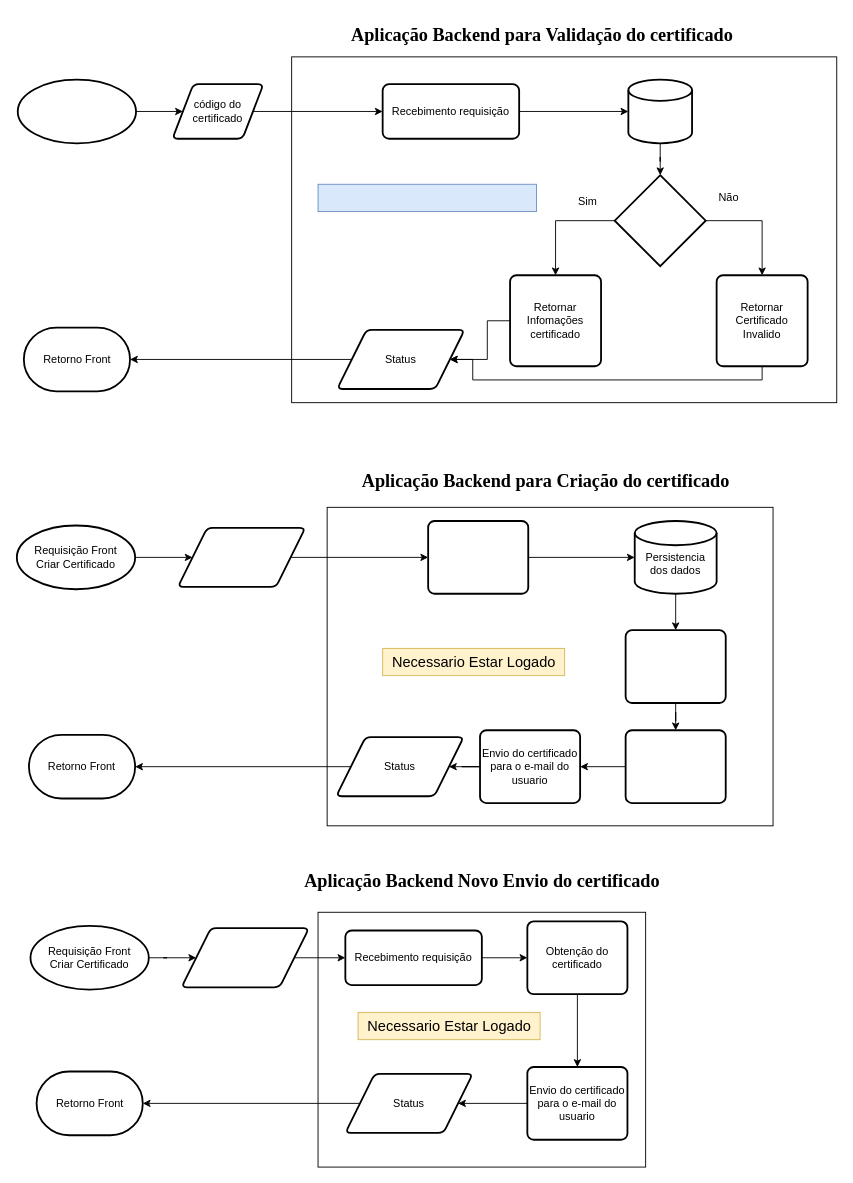
The diagram is 853 pixels wide and 1183 high, and some of its shapes have lost their labels. Here are the shapes that lost their labels. From the top down, the centre of each, then its label:
point (76, 111): Requisição Front Validar Certificado
point (660, 111): Consulta Código
point (426, 197): Não Necessario Estar Logado
point (659, 220): Código valido?
point (241, 556): Informações do certificado e user
point (478, 557): Recebimento da requisição
point (675, 666): Geração do Certificado
point (675, 766): Armazenamento do Certificado
point (244, 957): Código certificado
